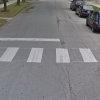Crosswalk: (3, 35, 100, 83)
